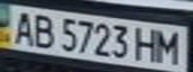2: (90, 20, 115, 57)
3: (109, 21, 133, 61)
5: (54, 16, 78, 53)
7: (72, 18, 93, 55)
A: (6, 8, 39, 46)
B: (27, 11, 57, 48)
H: (133, 25, 160, 63)
M: (154, 28, 187, 65)
